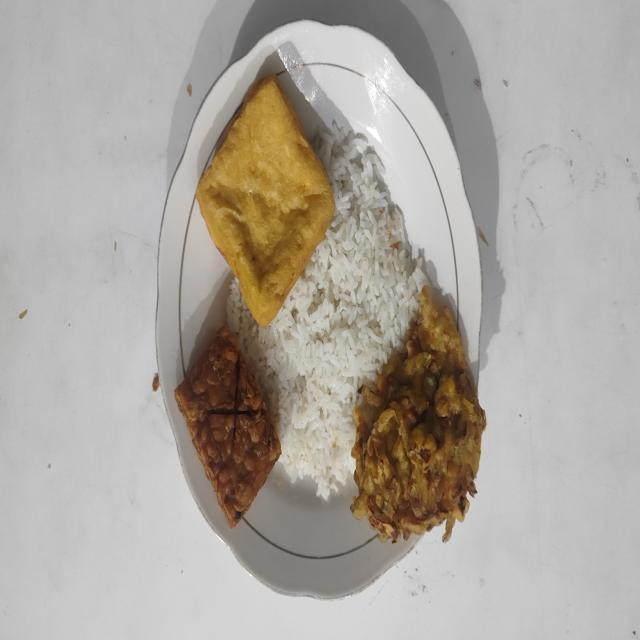nasi_putih: (227, 122, 426, 499)
tahu_goreng: (196, 75, 335, 328)
tempe_goreng: (175, 327, 281, 528)
